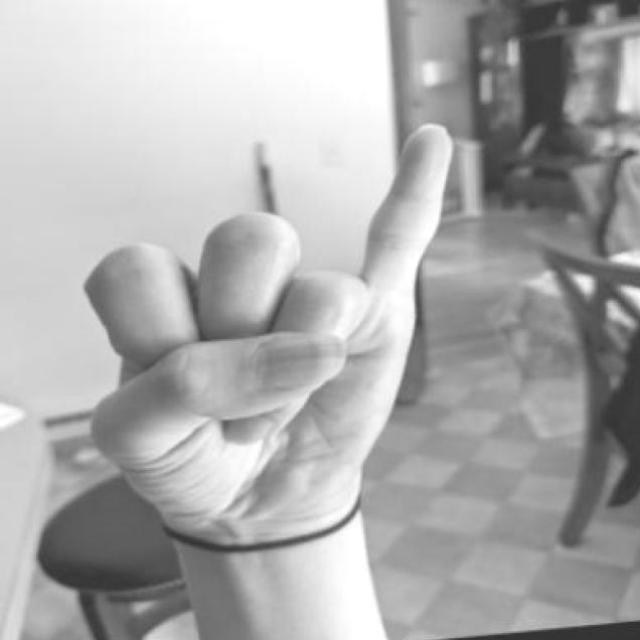I: (75, 119, 461, 577)
